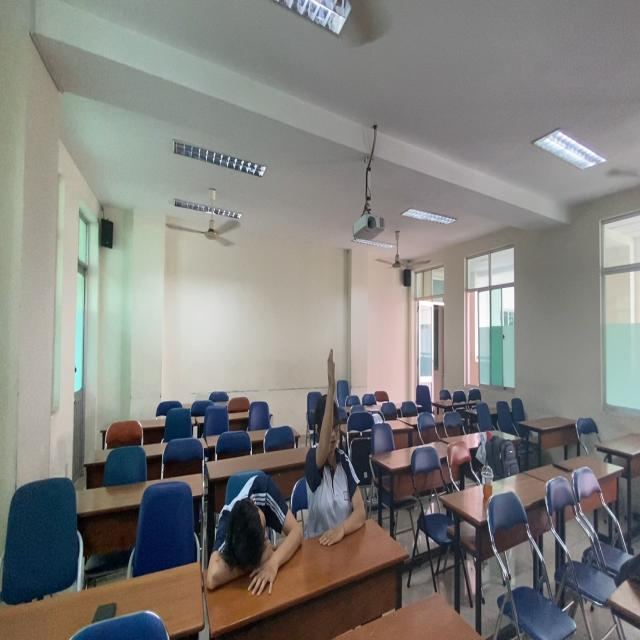raise_hand: (307, 343, 370, 551)
sleep: (201, 468, 306, 586)
